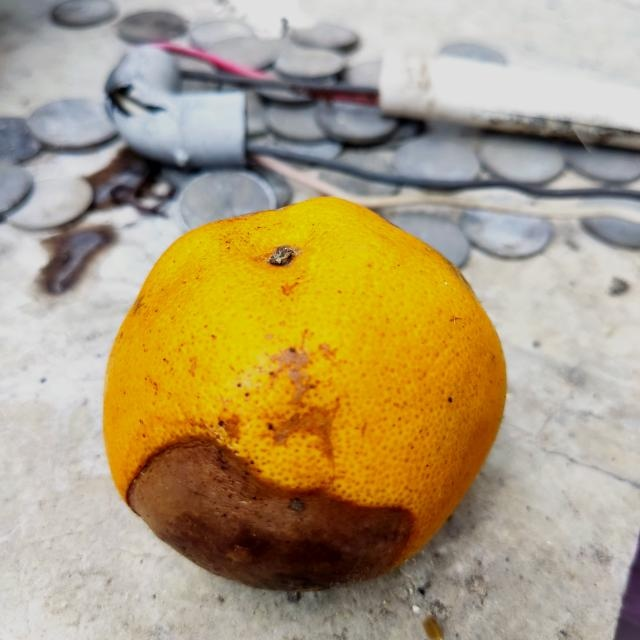agrume: (101, 194, 509, 593)
